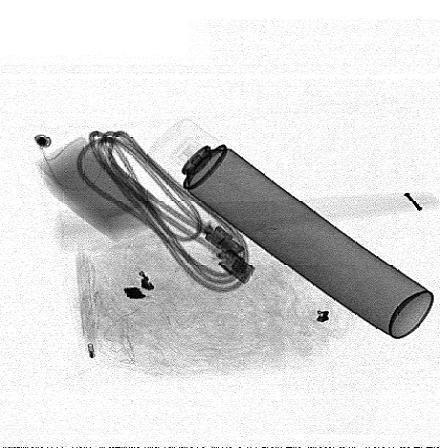Sprayer: (145, 119, 433, 340)
